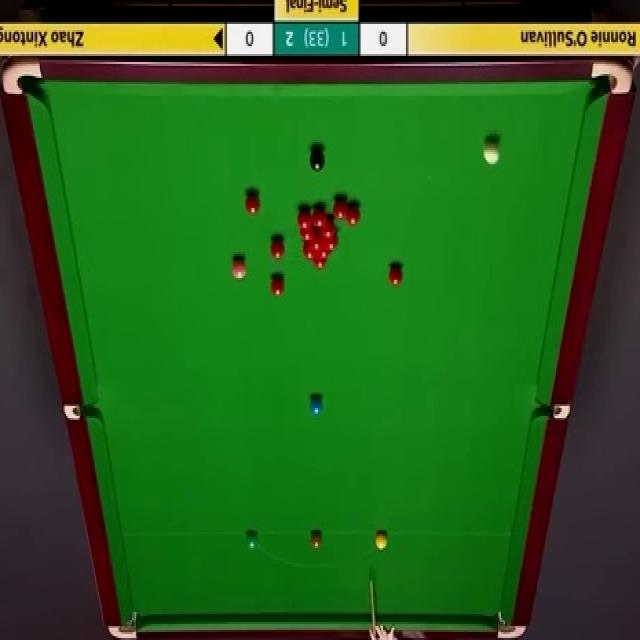black-ball: (309, 147, 325, 173)
blue-ball: (310, 398, 323, 416)
brown-ball: (310, 531, 323, 548)
green-ball: (244, 528, 258, 552)
pink-ball: (231, 256, 247, 280)
red-ball: (268, 236, 285, 258), (246, 191, 260, 217), (388, 262, 402, 287), (311, 207, 326, 228), (270, 274, 284, 296), (308, 229, 322, 251), (322, 217, 335, 240), (346, 206, 360, 227), (333, 198, 346, 220), (298, 208, 312, 228), (323, 233, 339, 250), (303, 241, 317, 260), (299, 224, 314, 240), (316, 248, 332, 260), (312, 259, 327, 271)
white-ball: (483, 139, 500, 165)
yellow-ball: (374, 530, 388, 551)
